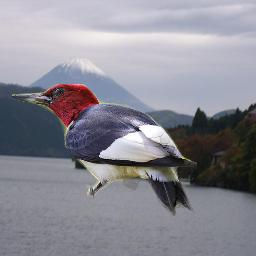Woodpecker: (12, 84, 197, 216)
